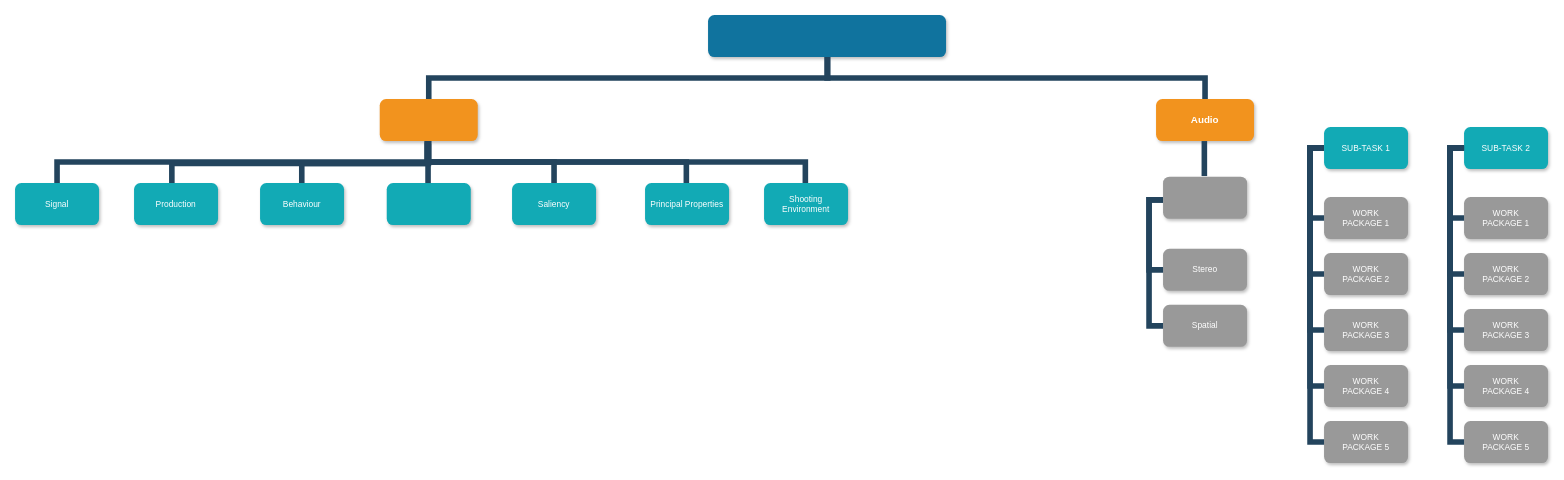
This 1564x480 diagram has some shape labels left out. The shapes that lost their labels are listed below. From the top down, each one's centre as x and y in pixels, then its label:
At point 827,37: "Videos Classification".
At point 429,121: "Video".
At point 429,205: "Assessment".
At point 1205,198: "Mono".
